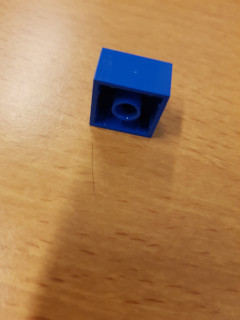2x2 blue: (87, 45, 174, 140)
